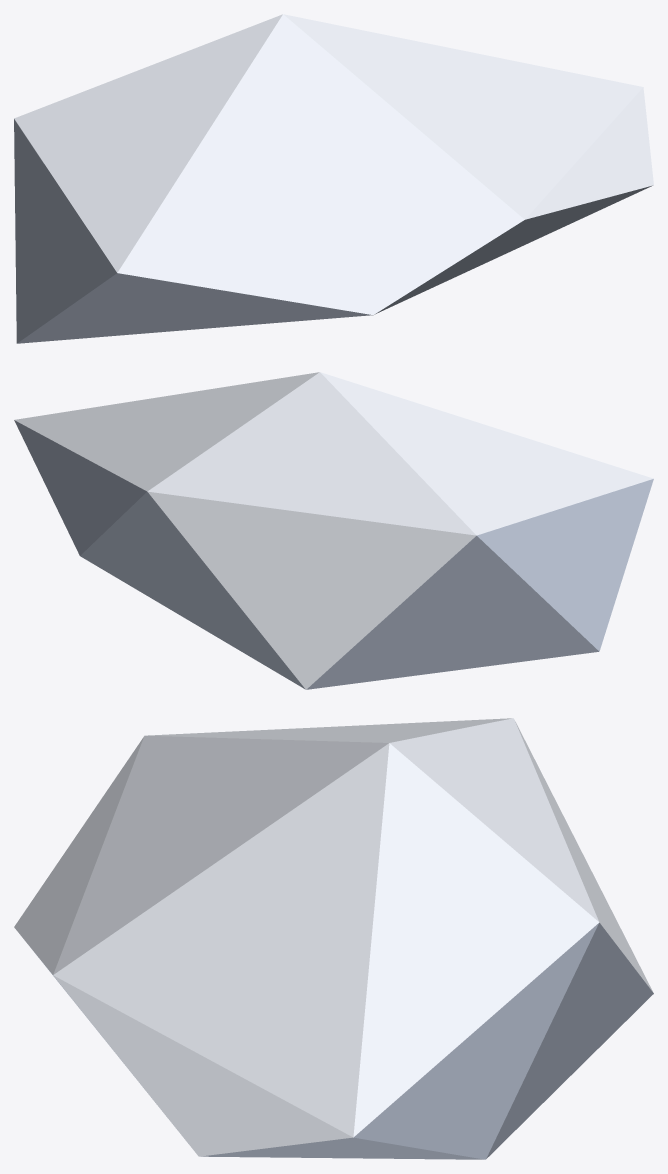
File: snow-mound-2.glb
3 views of the same model, one above another, from view 1: azimuth 30°, elevation 25°; view 2: azimuth 150°, elevation 25°; view 3: azimuth 270°, elevation 25° (orthographic). The views are drawn at different scales.
Visible parts, largest first — view 1: snow-mound-2; view 2: snow-mound-2; view 3: snow-mound-2.
Part boxes in pixels (x1=…): snow-mound-2: x1=14, y1=14, x2=653, y2=343; snow-mound-2: x1=14, y1=372, x2=653, y2=689; snow-mound-2: x1=14, y1=718, x2=653, y2=1159.
Size of the model in its own units: 4.27 by 1.8 by 3.
